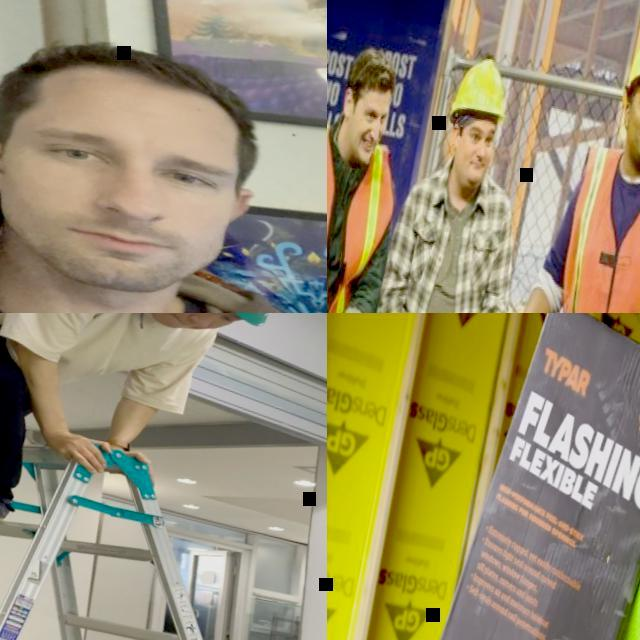helmet: (446, 52, 512, 122), (191, 313, 308, 334), (626, 33, 640, 102)
no_helmet: (0, 25, 267, 139), (346, 44, 400, 103)
no_mask: (0, 158, 249, 310), (454, 150, 495, 192), (342, 128, 378, 168), (141, 313, 206, 332), (623, 121, 640, 164)
no_vest: (0, 313, 207, 399), (399, 168, 505, 313)
person: (0, 0, 327, 313), (0, 313, 310, 626), (327, 36, 574, 313), (451, 19, 640, 313), (478, 313, 640, 640), (327, 31, 433, 313)
vest: (565, 317, 640, 640), (535, 132, 640, 313), (327, 113, 411, 313)
